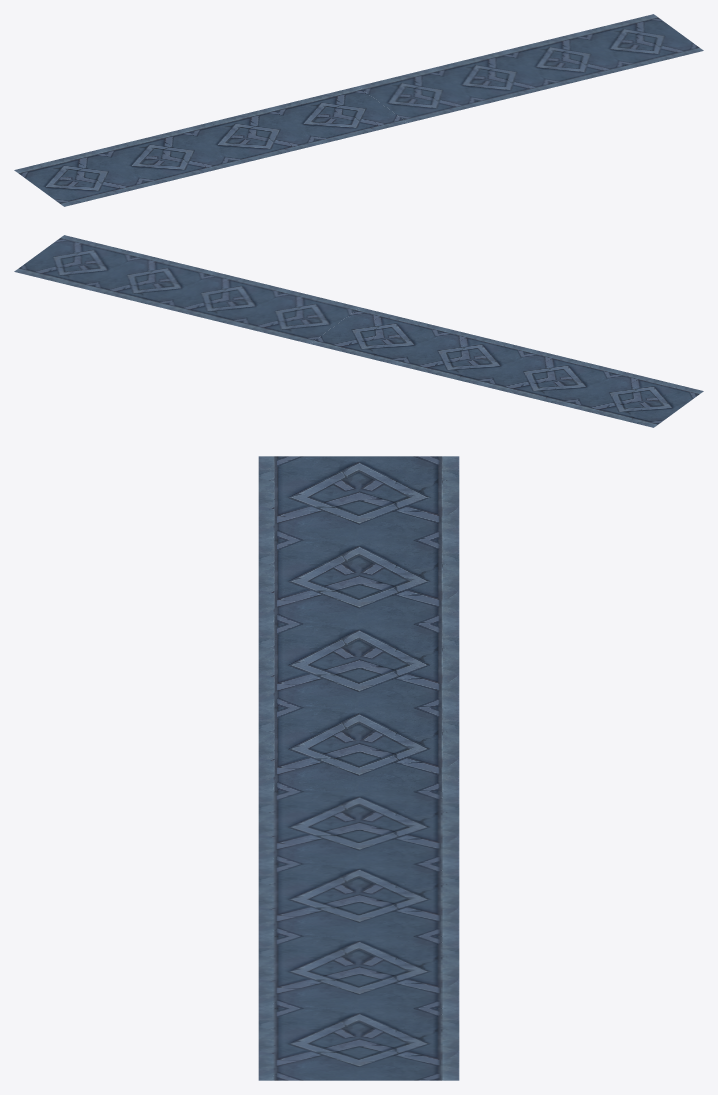
The model's file is Area_12_7.fbx.
The picture shows the model from 3 angles, top to bottom: view 1: azimuth 30°, elevation 25°; view 2: azimuth 150°, elevation 25°; view 3: azimuth 270°, elevation 25°; orthographic projection. The views are drawn at different scales.
Visible parts, largest first — view 1: Area_12_7; view 2: Area_12_7; view 3: Area_12_7.
Boxes of the visible parts, x1=… form: Area_12_7: x1=14, y1=14, x2=703, y2=206; Area_12_7: x1=14, y1=235, x2=703, y2=427; Area_12_7: x1=258, y1=456, x2=459, y2=1080.
Size of the model in its own units: 4393 by 0.000132 by 598.
Materials: 1 (1 with a texture image).
